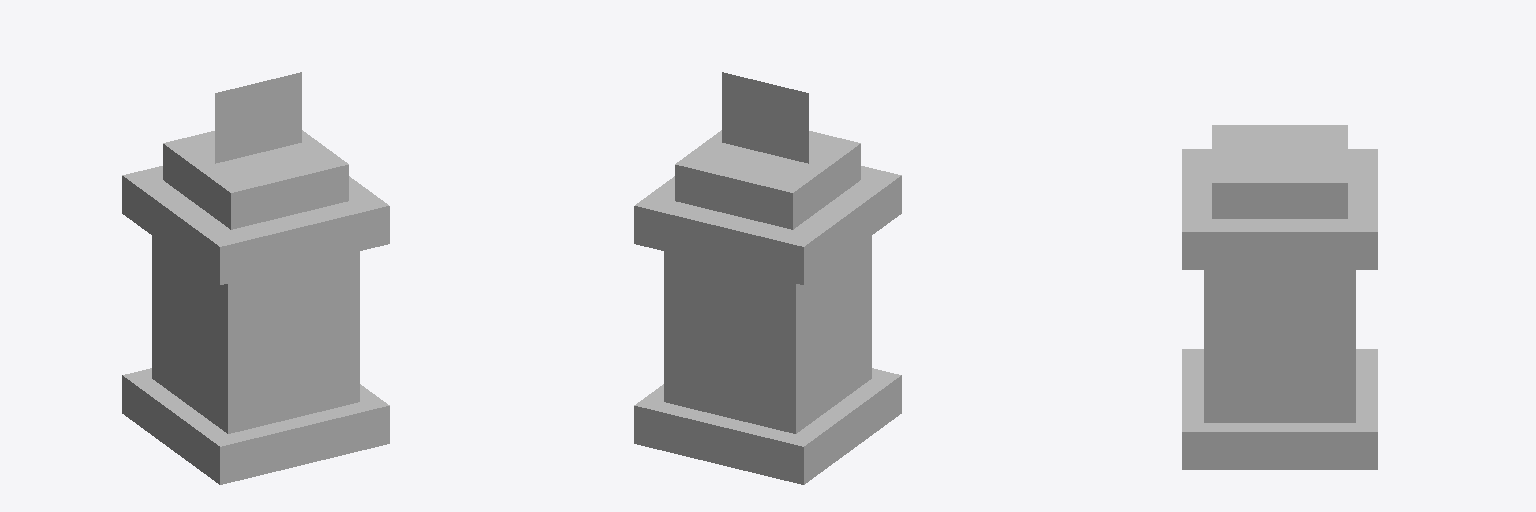
File: hcmwlanternbody.obj
The picture shows the model from 3 angles: view 1: azimuth 30°, elevation 25°; view 2: azimuth 150°, elevation 25°; view 3: azimuth 270°, elevation 25°; orthographic projection.
Visible parts, largest first — view 1: lanternbody, lanternframe, lanternloop2, lanternloop1; view 2: lanternbody, lanternframe, lanternloop2, lanternloop1; view 3: lanternbody, lanternframe.
Boxes of the visible parts, <box> form: lanternbody: <box>122,130,389,484</box>; lanternframe: <box>152,236,359,433</box>; lanternloop2: <box>215,72,301,162</box>; lanternloop1: <box>215,72,301,163</box>; lanternbody: <box>634,130,901,484</box>; lanternframe: <box>664,236,871,433</box>; lanternloop2: <box>722,72,808,162</box>; lanternloop1: <box>722,72,808,163</box>; lanternbody: <box>1182,125,1377,469</box>; lanternframe: <box>1204,270,1355,422</box>.
Bounding box in the file's own units: 0.4828 × 0.9405 × 0.4828.